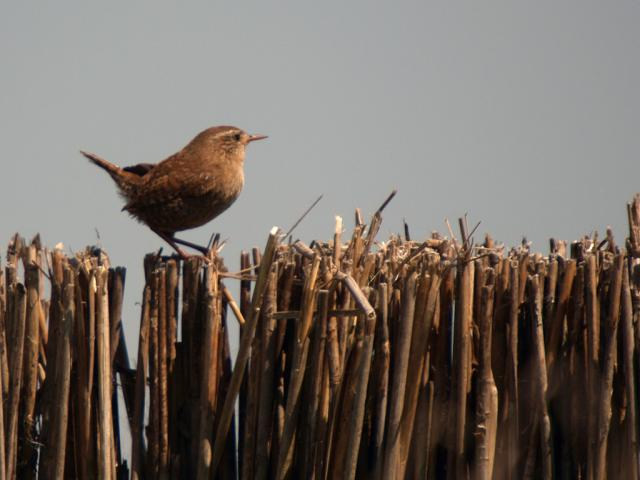Bird: (76, 123, 270, 261)
